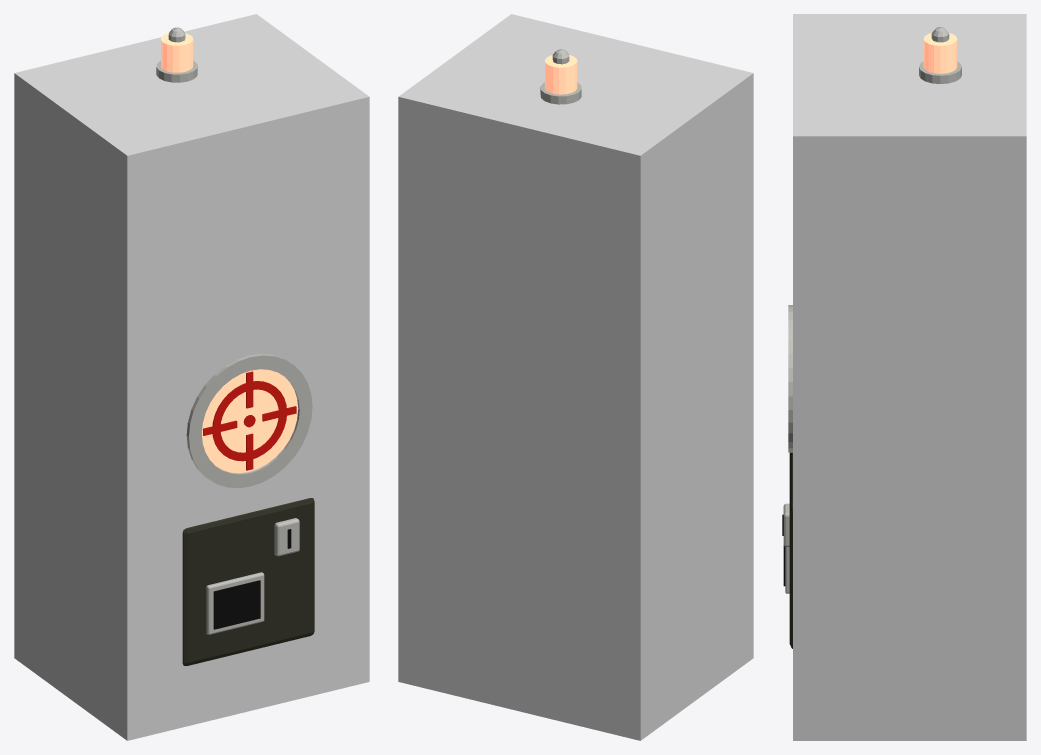
File: deadeye.glb
The picture shows the model from 3 angles, left to right: view 1: azimuth 30°, elevation 25°; view 2: azimuth 150°, elevation 25°; view 3: azimuth 270°, elevation 25°; orthographic projection. The views are drawn at different scales.
Visible parts, largest first — view 1: col_0, paint2, chrome, lit_lamp, lit_ink, dark; view 2: col_0, lit_lamp, chrome; view 3: col_0, chrome, lit_lamp, paint2.
Part boxes in pixels (left/top/right/bottom): col_0: left=14, top=14, right=369, bottom=740; paint2: left=182, top=498, right=314, bottom=665; chrome: left=156, top=27, right=312, bottom=634; lit_lamp: left=161, top=33, right=298, bottom=473; lit_ink: left=203, top=371, right=296, bottom=470; dark: left=213, top=529, right=291, bottom=629; col_0: left=398, top=14, right=753, bottom=740; lit_lamp: left=545, top=55, right=577, bottom=94; chrome: left=540, top=49, right=581, bottom=104; col_0: left=793, top=14, right=1026, bottom=740; chrome: left=783, top=27, right=961, bottom=593; lit_lamp: left=923, top=33, right=957, bottom=73; paint2: left=789, top=452, right=792, bottom=648.
Bounding box in the file's own units: 0.94 × 2.34 × 0.794.
